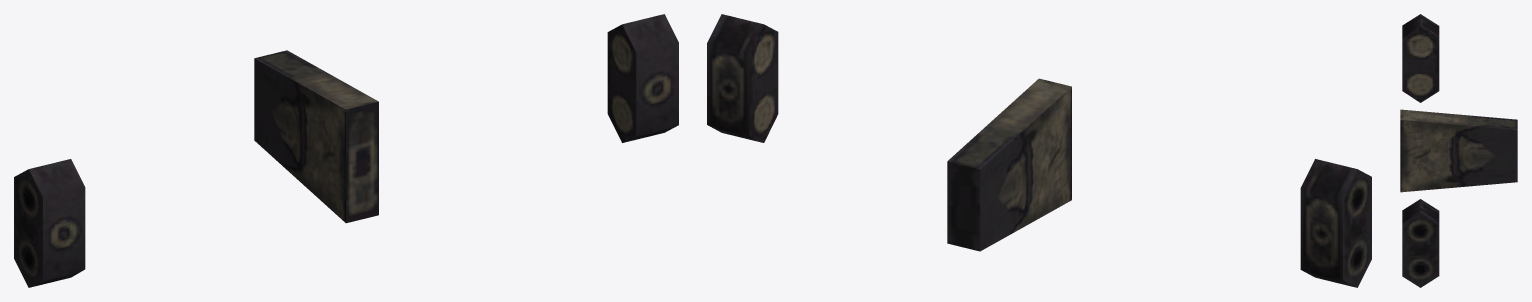
The picture shows the model from 3 angles, left to right: view 1: azimuth 30°, elevation 25°; view 2: azimuth 150°, elevation 25°; view 3: azimuth 270°, elevation 25°; orthographic projection. The views are drawn at different scales.
Visible parts, largest first — view 1: set_0_group_0; view 2: set_0_group_0; view 3: set_0_group_0.
Boxes of the visible parts, bbox=[...] form: set_0_group_0: bbox=[14, 14, 678, 287]; set_0_group_0: bbox=[707, 14, 1371, 287]; set_0_group_0: bbox=[1400, 14, 1517, 287].
Size of the model in its own units: 0.7111 by 0.127 by 0.1777.
1 material, 1 textured.
